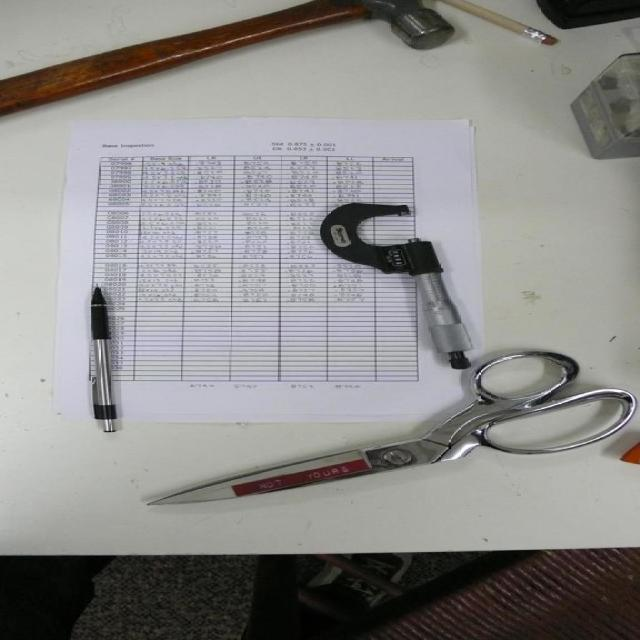scissors: (143, 350, 634, 506)
